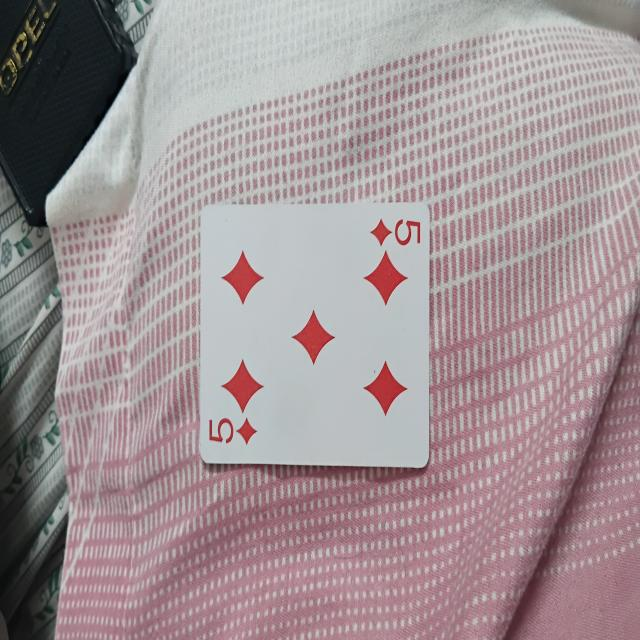5D: (197, 200, 430, 466)
